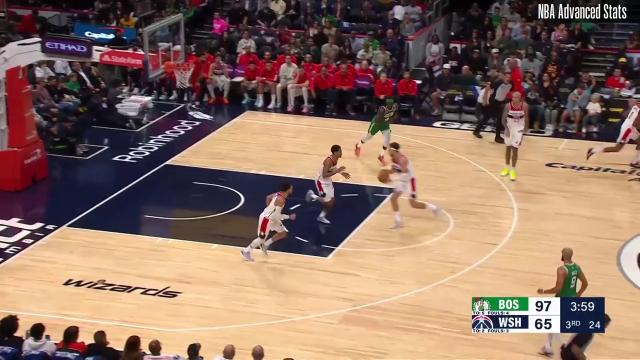3_dx: (230, 114, 238, 124)
b_dx: (244, 106, 252, 114)
free_asx: (320, 253, 332, 264)
free_bdx: (158, 158, 170, 168)
free_bsx: (58, 220, 68, 230)
mid_dx: (560, 134, 572, 144)
referee: (474, 71, 512, 141), (562, 312, 610, 360)
team: (382, 139, 442, 230), (237, 178, 297, 264), (584, 95, 640, 168), (306, 144, 348, 224), (501, 92, 527, 180)
team1: (538, 246, 588, 358), (354, 96, 396, 164)
timer: (566, 298, 596, 314)
